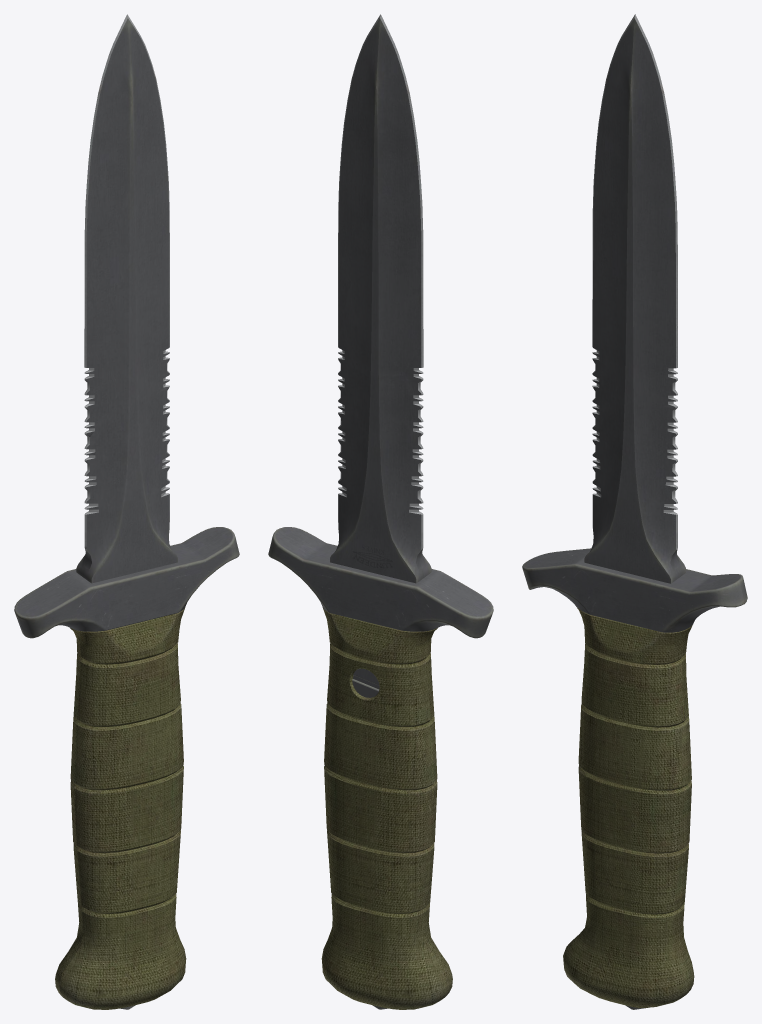
The model's file is knife.glb.
The picture shows the model from 3 angles, left to right: view 1: azimuth 30°, elevation 25°; view 2: azimuth 150°, elevation 25°; view 3: azimuth 330°, elevation 25°; orthographic projection.
Visible parts, largest first — view 1: weapon_knife_default_ct; view 2: weapon_knife_default_ct; view 3: weapon_knife_default_ct.
Part boxes in pixels (x1=…): weapon_knife_default_ct: x1=14, y1=14, x2=239, y2=1009; weapon_knife_default_ct: x1=268, y1=14, x2=493, y2=1009; weapon_knife_default_ct: x1=522, y1=14, x2=747, y2=1009.
Size of the model in its own units: 0.0889 by 0.3856 by 0.0276.
1 material, 1 textured.
